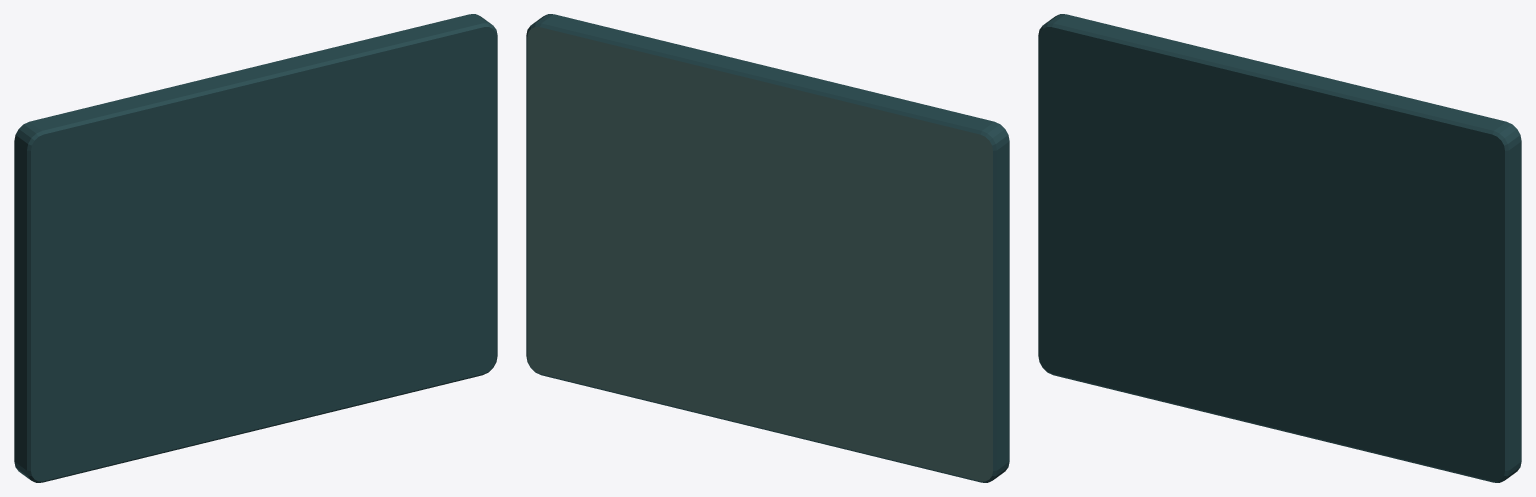
The model's file is d03_community_graphics_02.glb.
The picture shows the model from 3 angles, left to right: view 1: azimuth 30°, elevation 25°; view 2: azimuth 150°, elevation 25°; view 3: azimuth 330°, elevation 25°; orthographic projection.
Parts seen in each view (by area): view 1: D03CommunityGraphics02_Mesh; view 2: D03CommunityGraphics02_Mesh; view 3: D03CommunityGraphics02_Mesh.
Part boxes in pixels (bbox=[...]): D03CommunityGraphics02_Mesh: bbox=[14, 14, 497, 482]; D03CommunityGraphics02_Mesh: bbox=[526, 14, 1009, 482]; D03CommunityGraphics02_Mesh: bbox=[1038, 14, 1521, 482].
Size of the model in its own units: 0.56 by 0.4 by 0.032.
